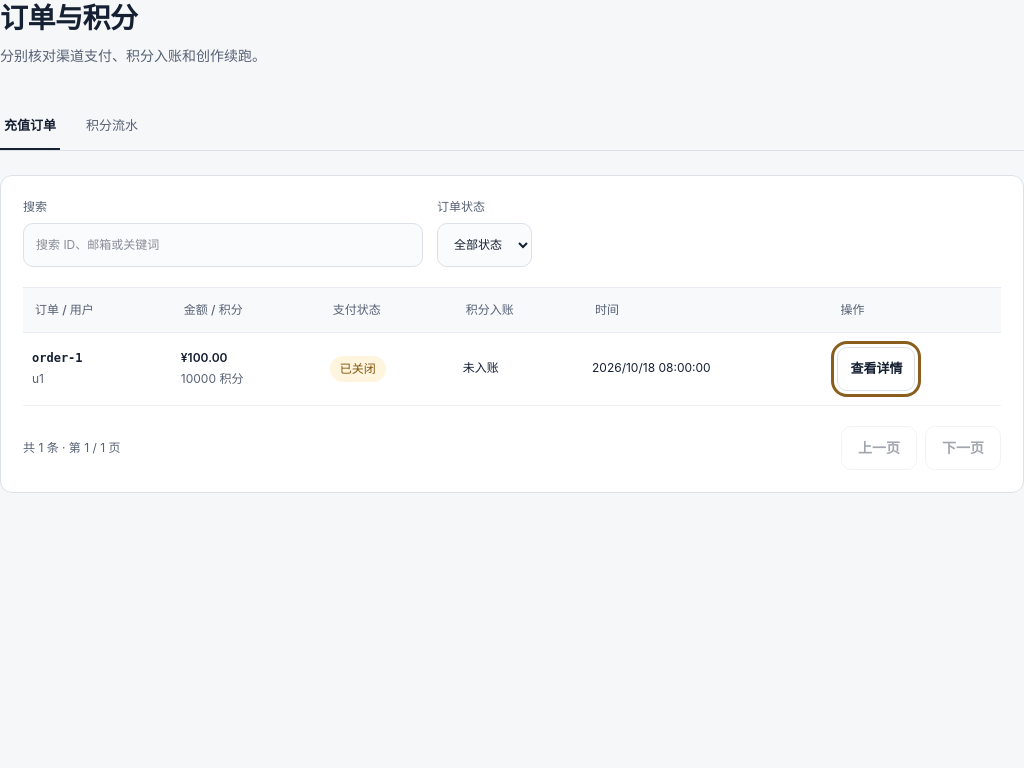
Test: closing detail with Escape returns focus and preserves current list
Step 1. Click the button with aria-label "查看订单 order-1" → {"x": 876, "y": 369}, box [838,347,916,391]
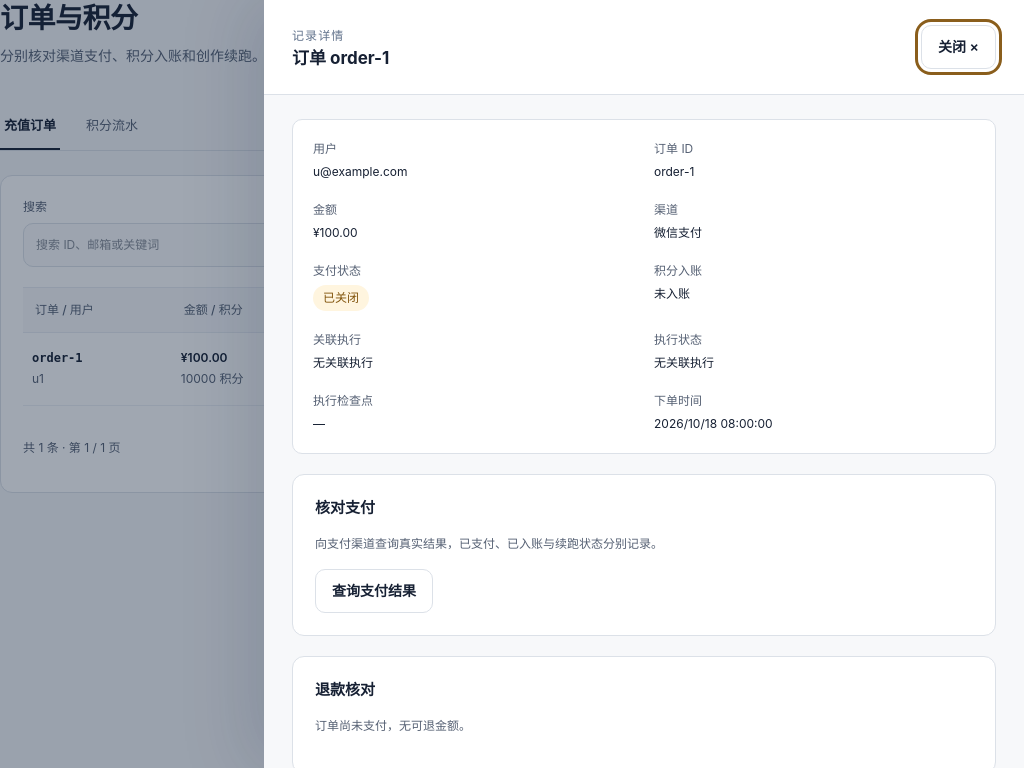
Now the dialog is shown
Step 2. Press Escape
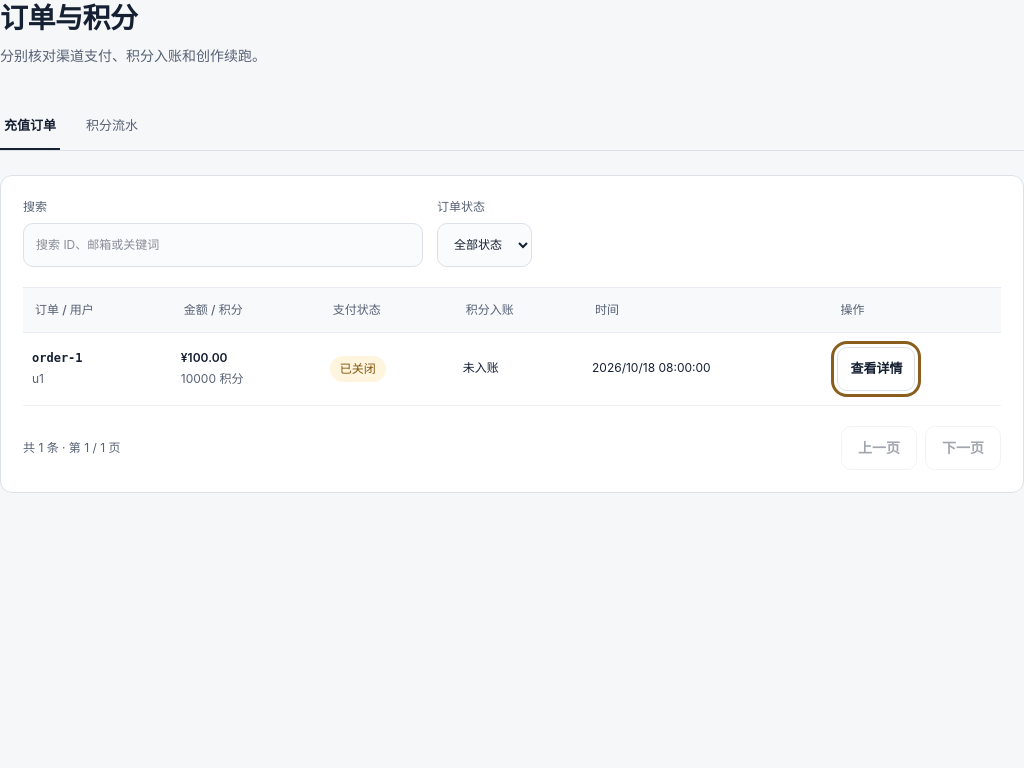
Expected: the text "order-1" is shown, [32,351,83,365]
Now the dialog is gone
